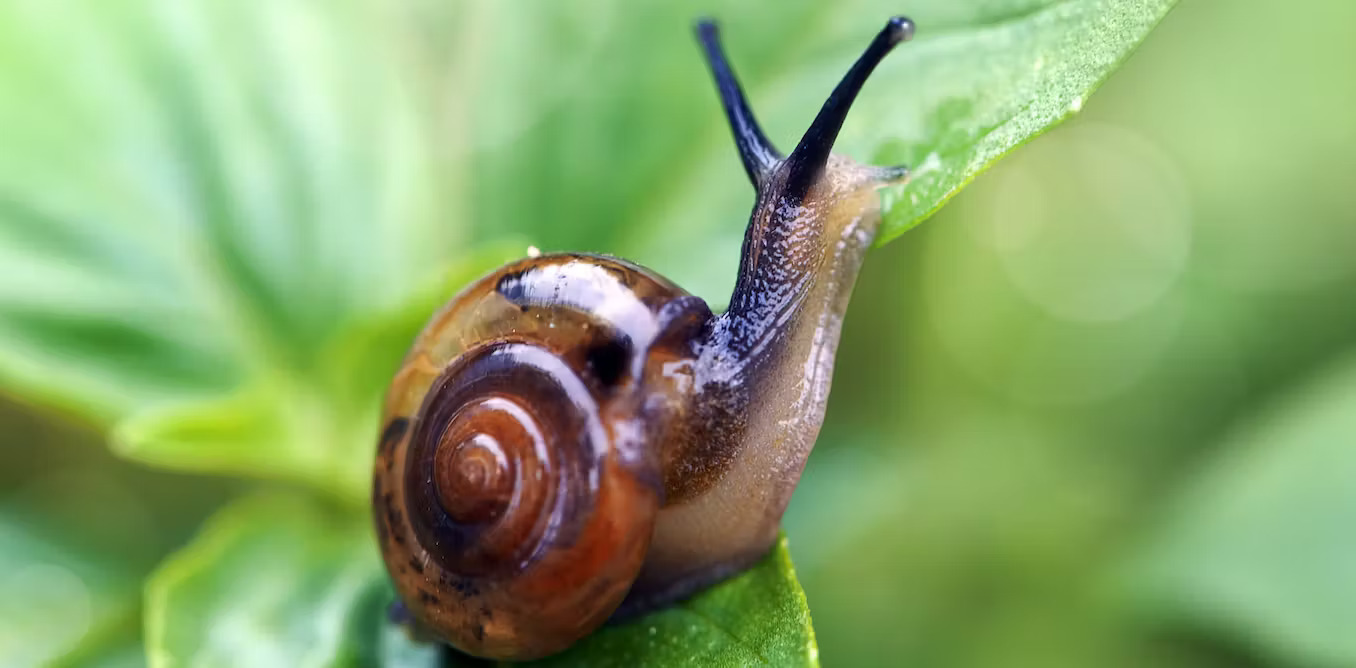snail: (377, 9, 914, 661)
